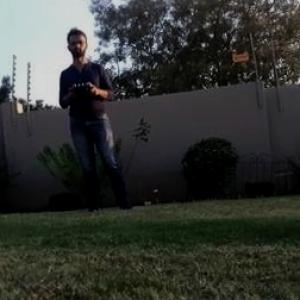follow: (57, 18, 141, 214)
